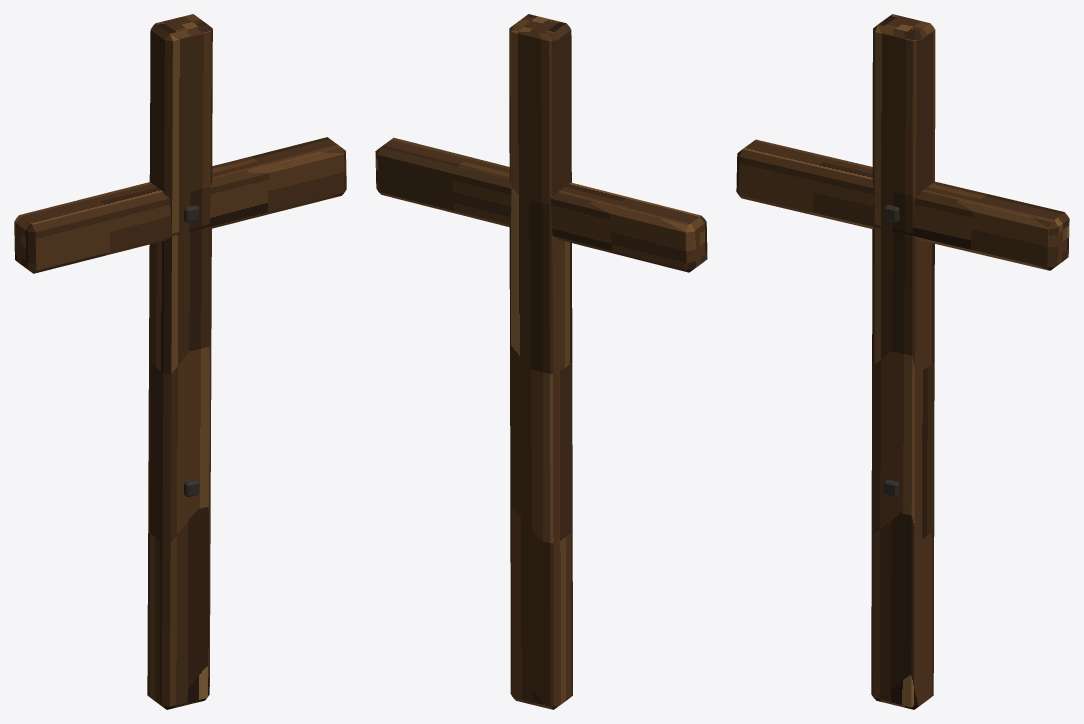
File: summit-cross.glb
3 views of the same model, side by side, from view 1: azimuth 30°, elevation 25°; view 2: azimuth 150°, elevation 25°; view 3: azimuth 330°, elevation 25° (orthographic).
Parts seen in each view (by area): view 1: Summit_Cross_Wood; view 2: Summit_Cross_Wood; view 3: Summit_Cross_Wood.
Boxes of the visible parts, box(x1,y1,x2,y2) form: Summit_Cross_Wood: box(14, 14, 346, 709); Summit_Cross_Wood: box(375, 14, 707, 709); Summit_Cross_Wood: box(736, 14, 1069, 709).
Bounding box in the file's own units: 3.45 × 7 × 0.4494.
2 materials, 1 textured.
